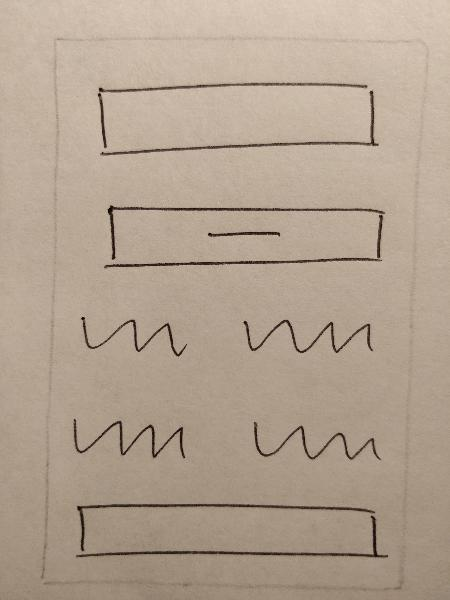button: (94, 192, 392, 279)
text: (245, 410, 387, 480), (61, 404, 196, 469), (232, 307, 378, 364), (77, 305, 193, 371)
text_input: (90, 72, 386, 165), (67, 497, 394, 570)
